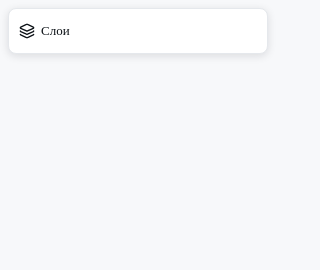
Test case: LayerPanel › на мобильном свёрнута в кнопку
Click the button "Слои": (44, 31) top-left (9, 9), bottom-right (80, 53)
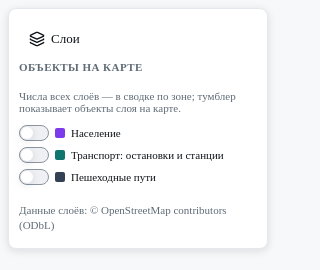
Result: the element with class "layers" has class "layers--expanded"
